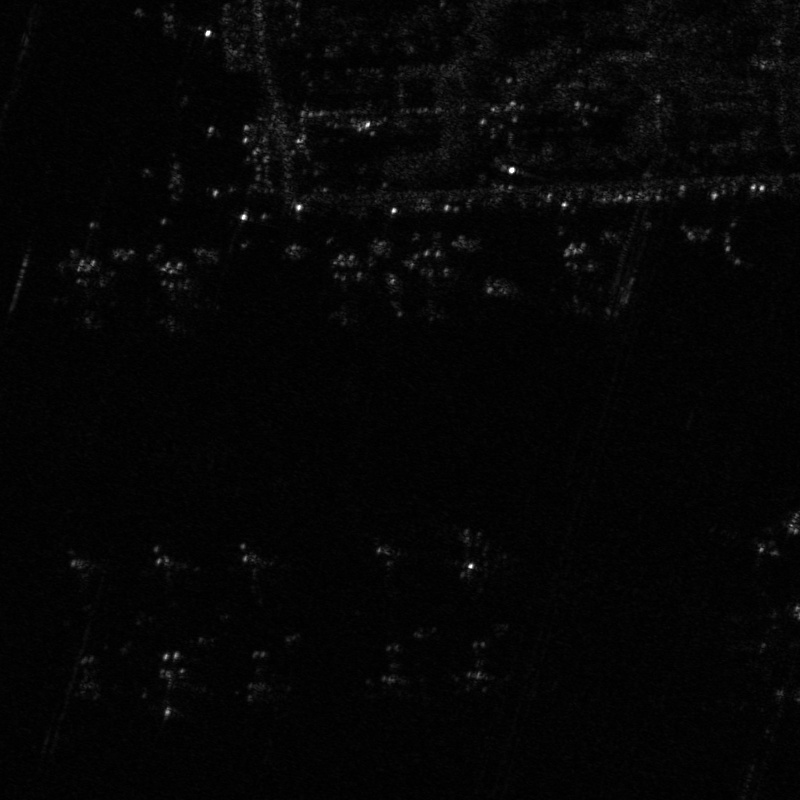A220: (356, 638, 433, 704)
A320/321: (43, 246, 124, 329)
ARJ21: (543, 237, 622, 317), (451, 638, 513, 699), (232, 645, 290, 708), (61, 652, 116, 705)
Boeing737: (132, 257, 224, 339), (134, 644, 206, 726), (314, 246, 378, 325)
other: (393, 244, 472, 324), (434, 524, 510, 597), (139, 542, 199, 613), (56, 545, 108, 621), (222, 540, 278, 610), (360, 532, 415, 596)
